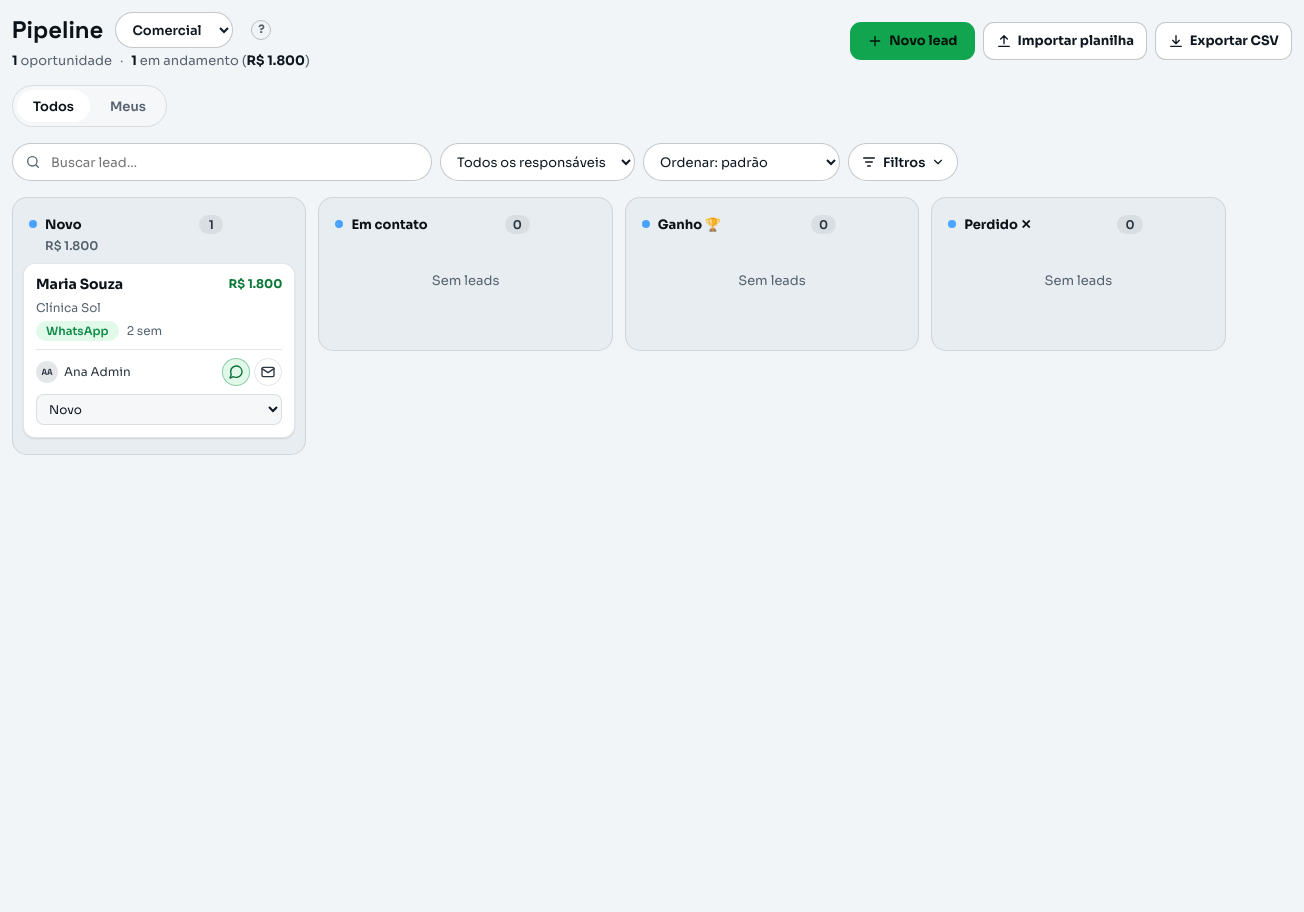
Test case: F-01 carregamento do quadro › trocar de pipeline recarrega as etapas do pipeline escolhido
Expected: the text "Maria Souza" is shown, 36,276 -> 123,294
Select "Pós-venda" in the dropdown named "Pipeline" at (174, 30), box 116,12 -> 234,48
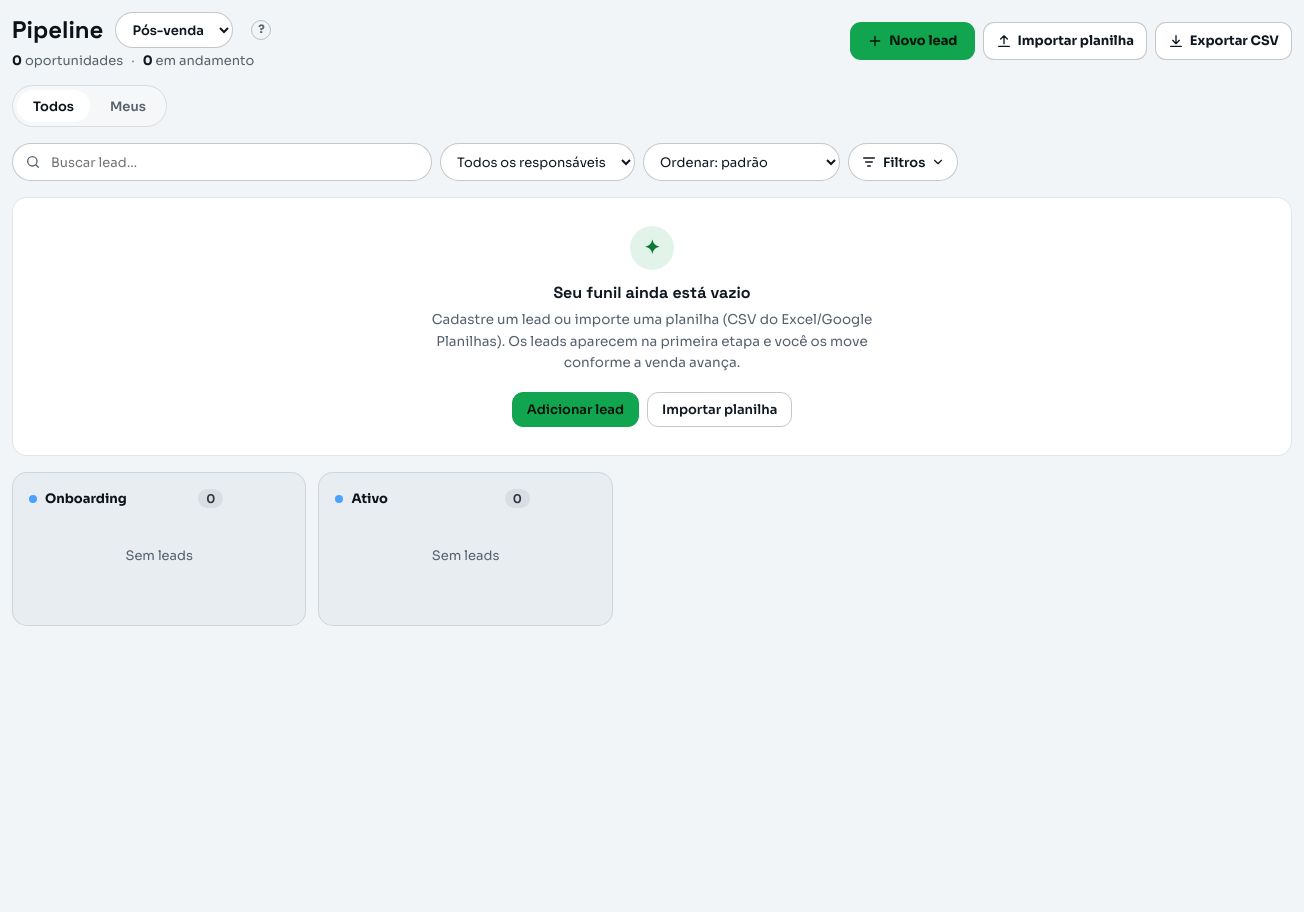
Now the text "Onboarding" is shown, box 45,490 -> 127,507
Now the text "Em contato" is gone
